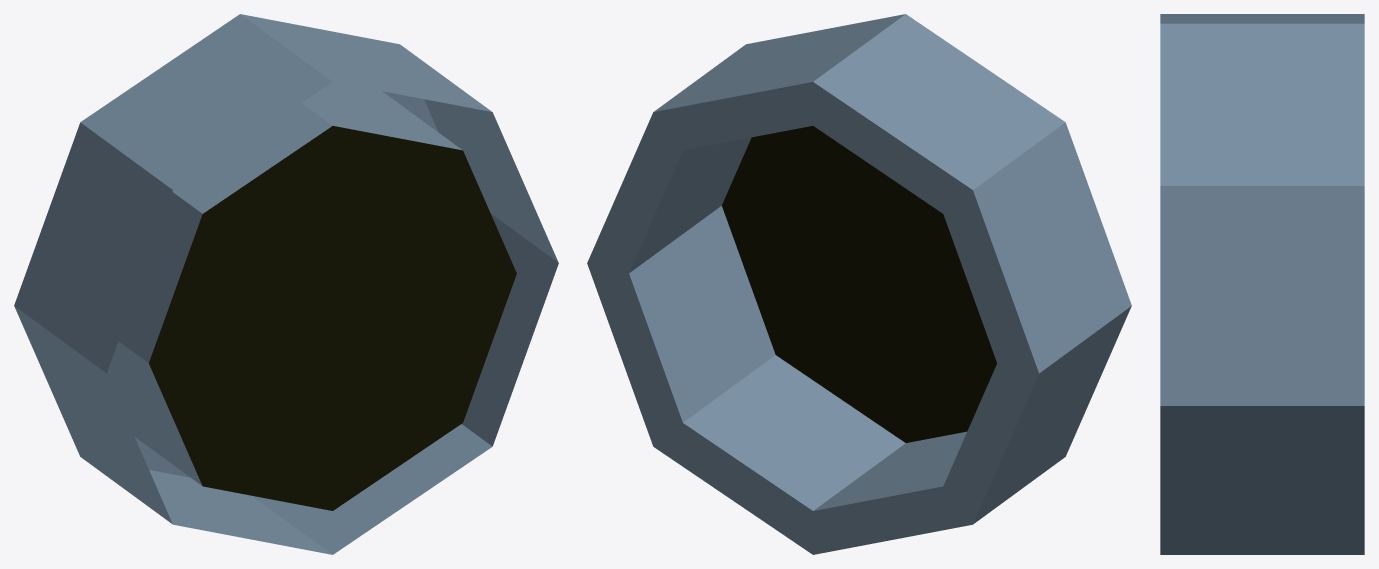
Rendered from item canvas.fbx.
3 views of the same model, side by side, from view 1: azimuth 30°, elevation 25°; view 2: azimuth 150°, elevation 25°; view 3: azimuth 270°, elevation 25° (orthographic). The views are drawn at different scales.
Visible parts, largest first — view 1: Circle.002; view 2: Circle.002; view 3: Circle.002.
Part boxes in pixels (x1,y1,x2,y2): Circle.002: [14, 14, 558, 554]; Circle.002: [587, 14, 1131, 554]; Circle.002: [1160, 14, 1364, 554].
Size of the model in its own units: 154 by 433 by 433.
